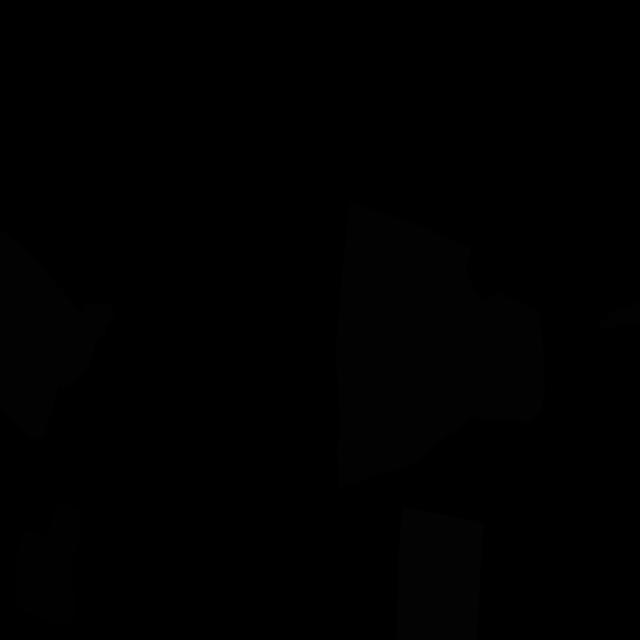cardboard: (336, 202, 545, 490), (0, 228, 84, 438), (59, 300, 116, 387), (594, 299, 640, 330)
metal: (396, 506, 484, 640)
rigid_plastic: (17, 500, 82, 624)
